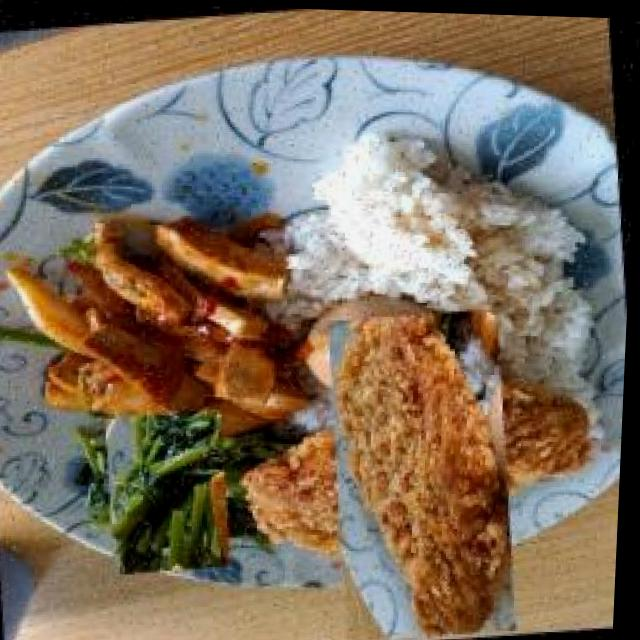fried_chicken: (284, 324, 572, 609)
rice: (261, 111, 596, 332)
water_spinach: (93, 416, 252, 569)
